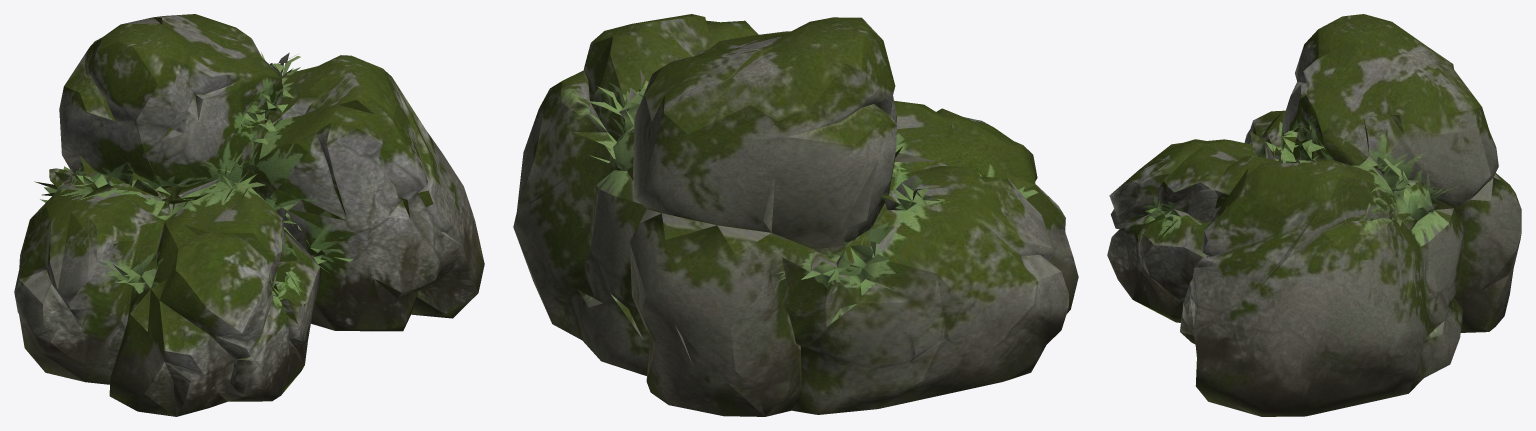
File: RochedoMusgoEldoria-lod1.glb
The picture shows the model from 3 angles, left to right: view 1: azimuth 30°, elevation 25°; view 2: azimuth 150°, elevation 25°; view 3: azimuth 270°, elevation 25°; orthographic projection. The views are drawn at different scales.
Visible parts, largest first — view 1: RochedoMusgoEldoria_LOD1; view 2: RochedoMusgoEldoria_LOD1; view 3: RochedoMusgoEldoria_LOD1.
Boxes of the visible parts, box(x1,y1,x2,y2) form: RochedoMusgoEldoria_LOD1: box(14, 14, 484, 416); RochedoMusgoEldoria_LOD1: box(513, 14, 1078, 416); RochedoMusgoEldoria_LOD1: box(1107, 14, 1521, 416).
Bounding box in the file's own units: 1.9 × 1.16 × 1.6.
Materials: 1 (1 with a texture image).
